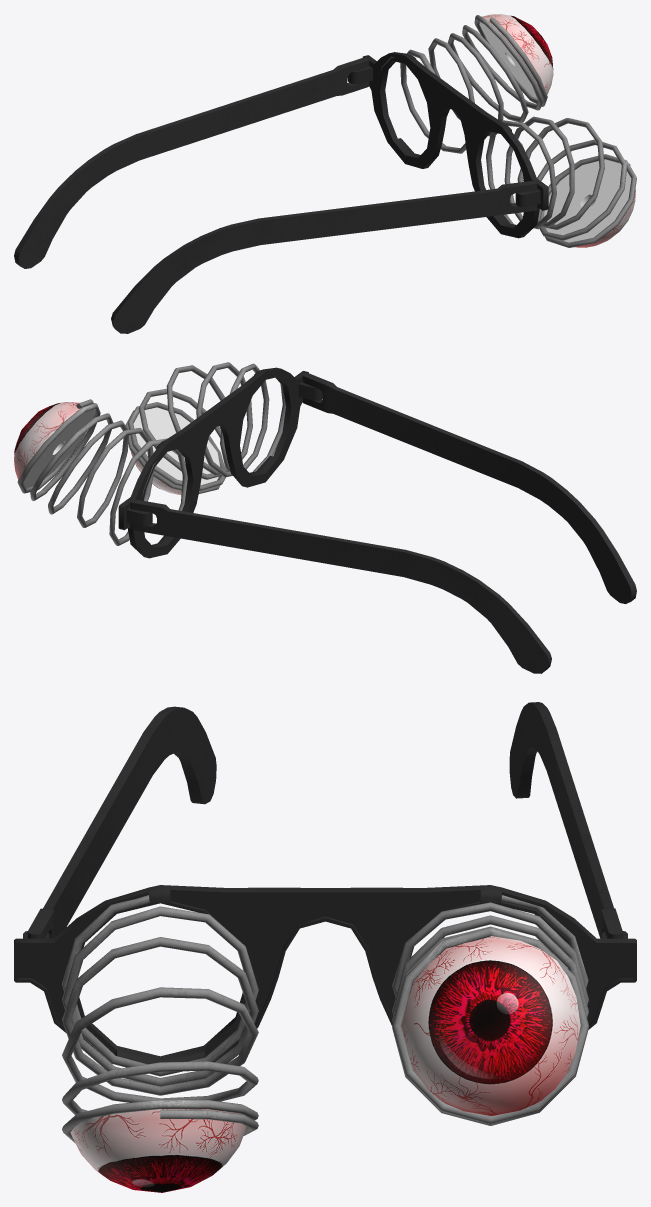
Rendered from GlassSketch.fbx.
The picture shows the model from 3 angles, top to bottom: view 1: azimuth 30°, elevation 25°; view 2: azimuth 150°, elevation 25°; view 3: azimuth 270°, elevation 25°; orthographic projection. The views are drawn at different scales.
Parts seen in each view (by area): view 1: COPPY; view 2: COPPY; view 3: COPPY.
Part boxes in pixels (x1=…): COPPY: x1=14, y1=14, x2=636, y2=333; COPPY: x1=14, y1=362, x2=636, y2=673; COPPY: x1=14, y1=702, x2=636, y2=1192.
Bounding box in the file's own units: 994 × 277 × 594.
